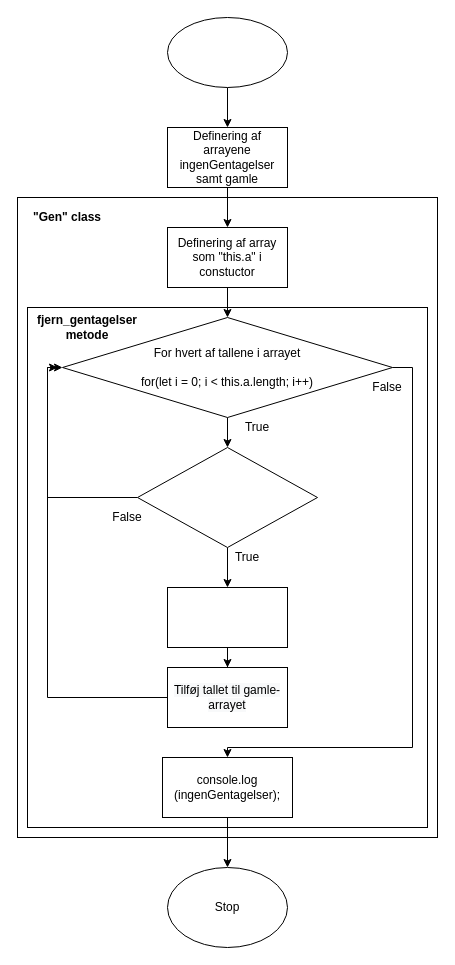
Image size: 455x965. Some labels were removed from this diagram. The box of each missing label's shape, as (x1, y1, x2, y2) in pixels:
Findes tallet IKKE i gamle-arrayet?: (136, 446, 318, 548)
Start: (166, 16, 288, 88)
Tilføj tallet til ingenGentagelser-arrayet: (166, 586, 288, 648)
